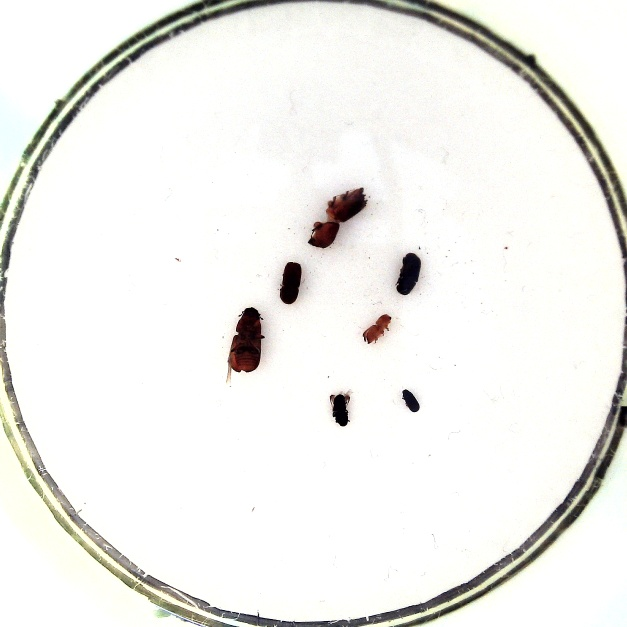acuminatus: (361, 312, 394, 347)
armandi: (394, 250, 422, 296)
boerner: (304, 186, 369, 250)
coleoptera: (327, 388, 358, 430), (400, 387, 425, 418)
leconte: (222, 303, 267, 380)
linnaeus: (278, 259, 304, 307)
